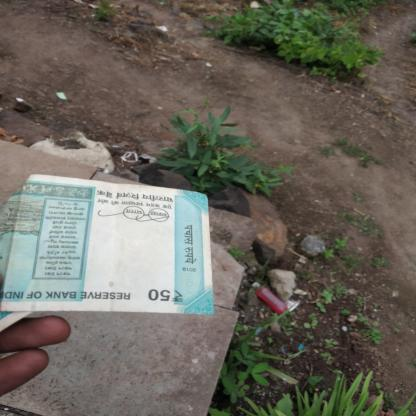New50Back: (0, 176, 208, 312)
